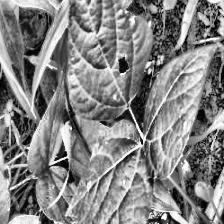ALS: (65, 0, 143, 131), (65, 117, 147, 224)
